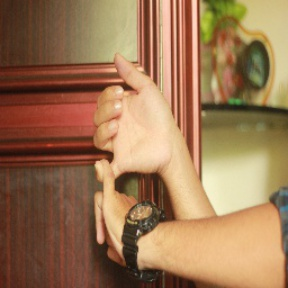S: (88, 50, 178, 274)
